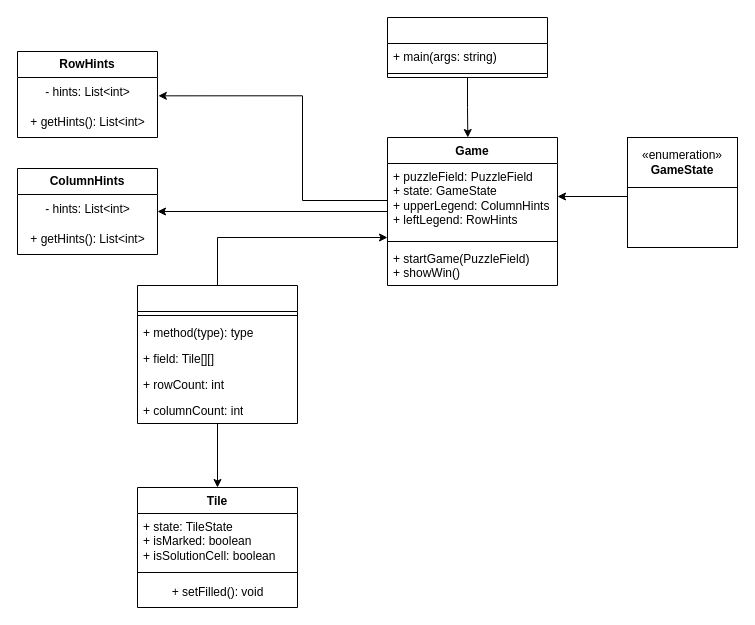
Image size: 755x625. Some labels were removed from this diagram. The box of each missing label's shape, as (x1, y1, x2, y2) in pixels:
+ PLAYING + SOLVED + FAILED: (626, 186, 738, 248)
Nonogram: (386, 16, 548, 78)
PuzzleField: (136, 284, 298, 424)
